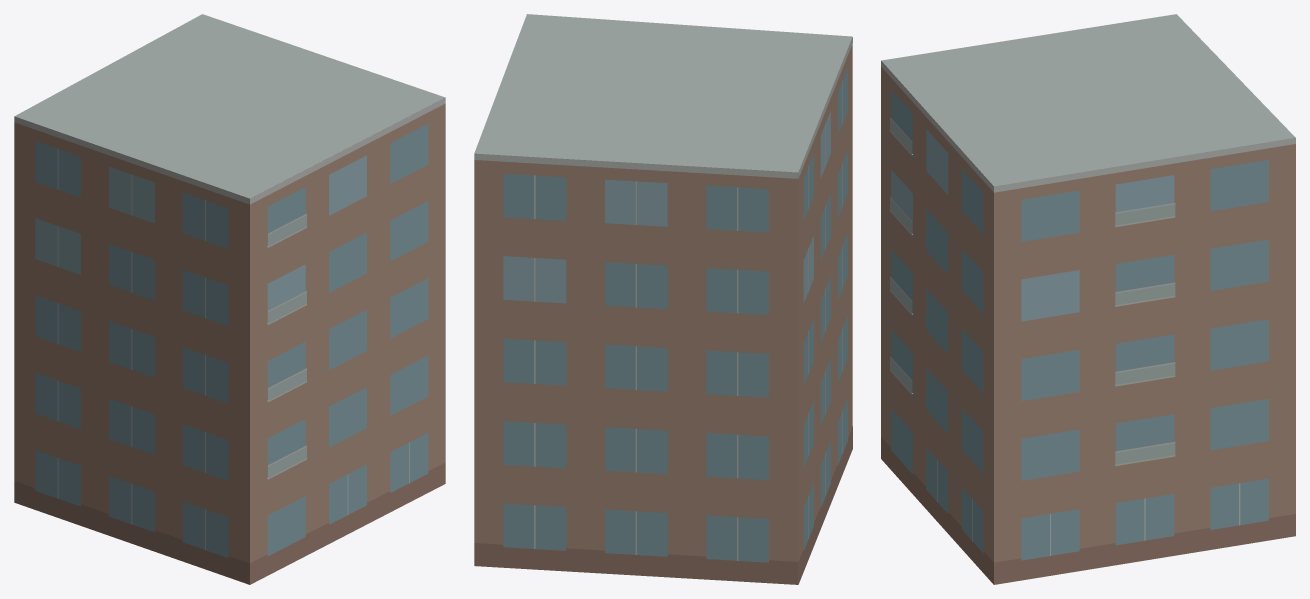
Rendered from survey-upis-32857774.glb.
3 renders of one model, left to right at view 1: azimuth 30°, elevation 25°; view 2: azimuth 150°, elevation 25°; view 3: azimuth 270°, elevation 25°, orthographic. The views are drawn at different scales.
Parts seen in each view (by area): view 1: survey-upis-32857774.tmp; view 2: survey-upis-32857774.tmp; view 3: survey-upis-32857774.tmp.
Boxes of the visible parts, <box> form: survey-upis-32857774.tmp: <box>14,14,445,584</box>; survey-upis-32857774.tmp: <box>474,14,852,584</box>; survey-upis-32857774.tmp: <box>881,14,1295,584</box>.
Size of the model in its own units: 14.69 by 15.8 by 14.92.
